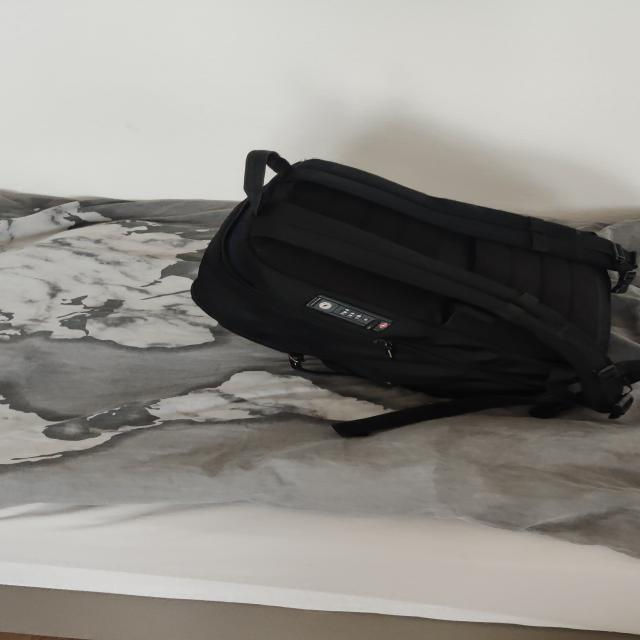backpack: (172, 140, 639, 426)
